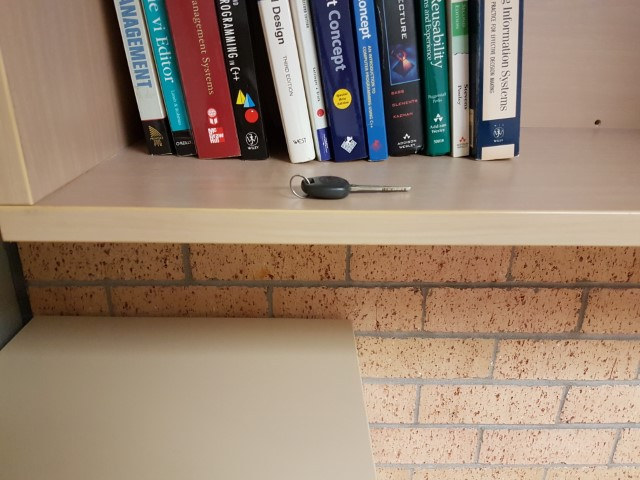key: (302, 175, 412, 196)
